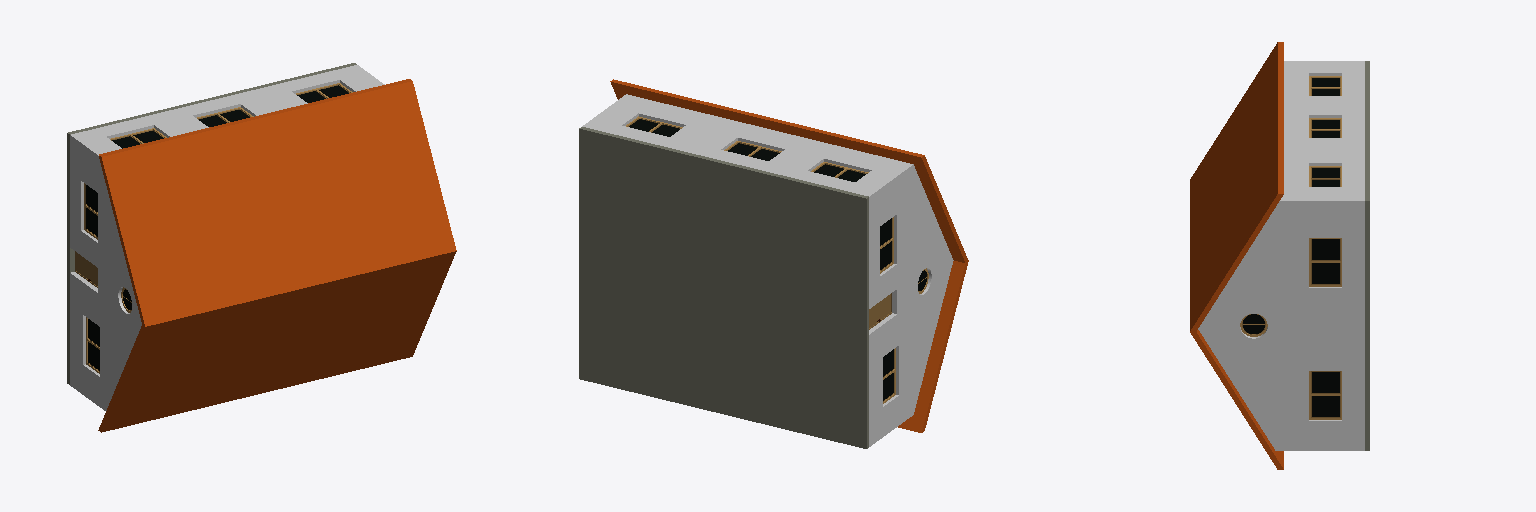
The model's file is KIT.obj.
3 views of the same model, side by side, from view 1: azimuth 30°, elevation 25°; view 2: azimuth 150°, elevation 25°; view 3: azimuth 270°, elevation 25° (orthographic).
Parts seen in each view (by area): view 1: product-073b1976-d302-4c1c-a68c-26cf0bea970d-body, product-92ede797-79f6-4b19-897f-a2c98ca59097-body, product-f5661f93-e3d1-49ce-8861-886e8d4ef048-body, product-65f697f6-4f4c-4836-8159-e2e335d3cbfd-body, product-2ec5748a-7cb6-4b3f-92fc-fb015a7d1d9e-body, product-73651c69-1e68-4ccd-9d97-3b16a923e18b-body, product-0b05be8e-f7d6-4332-958e-1576ff7f4ac5-body, product-76d4a4bf-6c47-48b2-b561-[number redacted]c39d-body, product-5d292132-e148-4487-b12f-2cd8d2e05d16-body, product-4db22d2b-a7d4-49ef-be13-9df47a84c5e4-body, product-9a27a1f2-6e16-4210-9b4b-ca53967f4be3-body; view 2: product-73651c69-1e68-4ccd-9d97-3b16a923e18b-body, product-65f697f6-4f4c-4836-8159-e2e335d3cbfd-body, product-f5661f93-e3d1-49ce-8861-886e8d4ef048-body, product-2ec5748a-7cb6-4b3f-92fc-fb015a7d1d9e-body, product-073b1976-d302-4c1c-a68c-26cf0bea970d-body, product-92ede797-79f6-4b19-897f-a2c98ca59097-body, product-856206b9-c21b-452d-9abc-a35a99103de2-body, product-76d4a4bf-6c47-48b2-b561-[number redacted]c39d-body, product-0b05be8e-f7d6-4332-958e-1576ff7f4ac5-body, product-5d292132-e148-4487-b12f-2cd8d2e05d16-body, product-4db22d2b-a7d4-49ef-be13-9df47a84c5e4-body, product-9a27a1f2-6e16-4210-9b4b-ca53967f4be3-body; view 3: product-85a76959-f2e0-457f-9e21-4bff17528c54-body, product-073b1976-d302-4c1c-a68c-26cf0bea970d-body, product-df324d5e-52a4-4197-8572-08263dee8193-body, product-65f697f6-4f4c-4836-8159-e2e335d3cbfd-body, product-73651c69-1e68-4ccd-9d97-3b16a923e18b-body, product-4391c887-27d9-48a5-9111-2b339303dfa8-body, product-8e6abfad-ad90-4bf8-af8a-5b[number redacted]-body, product-92ede797-79f6-4b19-897f-a2c98ca59097-body, product-856206b9-c21b-452d-9abc-a35a99103de2-body, product-4db22d2b-a7d4-49ef-be13-9df47a84c5e4-body, product-5d292132-e148-4487-b12f-2cd8d2e05d16-body, product-9a27a1f2-6e16-4210-9b4b-ca53967f4be3-body.
Part boxes in pixels (x1,y1,x2,y2): product-073b1976-d302-4c1c-a68c-26cf0bea970d-body: (99,79,456,326); product-92ede797-79f6-4b19-897f-a2c98ca59097-body: (98,251,456,432); product-f5661f93-e3d1-49ce-8861-886e8d4ef048-body: (70,135,106,410); product-65f697f6-4f4c-4836-8159-e2e335d3cbfd-body: (71,65,384,155); product-2ec5748a-7cb6-4b3f-92fc-fb015a7d1d9e-body: (107,190,141,407); product-73651c69-1e68-4ccd-9d97-3b16a923e18b-body: (67,63,356,384); product-0b05be8e-f7d6-4332-958e-1576ff7f4ac5-body: (86,317,99,373); product-76d4a4bf-6c47-48b2-b561-[number redacted]c39d-body: (84,183,97,239); product-5d292132-e148-4487-b12f-2cd8d2e05d16-body: (110,128,166,148); product-4db22d2b-a7d4-49ef-be13-9df47a84c5e4-body: (296,83,352,102); product-9a27a1f2-6e16-4210-9b4b-ca53967f4be3-body: (197,107,253,126); product-73651c69-1e68-4ccd-9d97-3b16a923e18b-body: (579,127,868,448); product-65f697f6-4f4c-4836-8159-e2e335d3cbfd-body: (582,99,906,196); product-f5661f93-e3d1-49ce-8861-886e8d4ef048-body: (869,170,906,446); product-2ec5748a-7cb6-4b3f-92fc-fb015a7d1d9e-body: (907,164,953,418); product-073b1976-d302-4c1c-a68c-26cf0bea970d-body: (610,79,968,262); product-92ede797-79f6-4b19-897f-a2c98ca59097-body: (898,261,968,432); product-856206b9-c21b-452d-9abc-a35a99103de2-body: (620,94,912,168); product-76d4a4bf-6c47-48b2-b561-[number redacted]c39d-body: (880,217,893,273); product-0b05be8e-f7d6-4332-958e-1576ff7f4ac5-body: (883,348,895,403); product-5d292132-e148-4487-b12f-2cd8d2e05d16-body: (811,162,868,181); product-4db22d2b-a7d4-49ef-be13-9df47a84c5e4-body: (626,116,682,136); product-9a27a1f2-6e16-4210-9b4b-ca53967f4be3-body: (724,141,781,160); product-85a76959-f2e0-457f-9e21-4bff17528c54-body: (1290,201,1364,450); product-073b1976-d302-4c1c-a68c-26cf0bea970d-body: (1190,42,1283,331); product-df324d5e-52a4-4197-8572-08263dee8193-body: (1198,201,1289,450); product-65f697f6-4f4c-4836-8159-e2e335d3cbfd-body: (1290,61,1364,200); product-73651c69-1e68-4ccd-9d97-3b16a923e18b-body: (1365,61,1369,450); product-4391c887-27d9-48a5-9111-2b339303dfa8-body: (1309,238,1341,286); product-8e6abfad-ad90-4bf8-af8a-5b[number redacted]-body: (1309,371,1341,419); product-92ede797-79f6-4b19-897f-a2c98ca59097-body: (1190,330,1283,469); product-856206b9-c21b-452d-9abc-a35a99103de2-body: (1280,61,1289,200); product-4db22d2b-a7d4-49ef-be13-9df47a84c5e4-body: (1309,166,1341,186); product-5d292132-e148-4487-b12f-2cd8d2e05d16-body: (1309,76,1341,95); product-9a27a1f2-6e16-4210-9b4b-ca53967f4be3-body: (1309,118,1341,137).
Bounding box in the file's own units: 13 × 11 × 6.52.